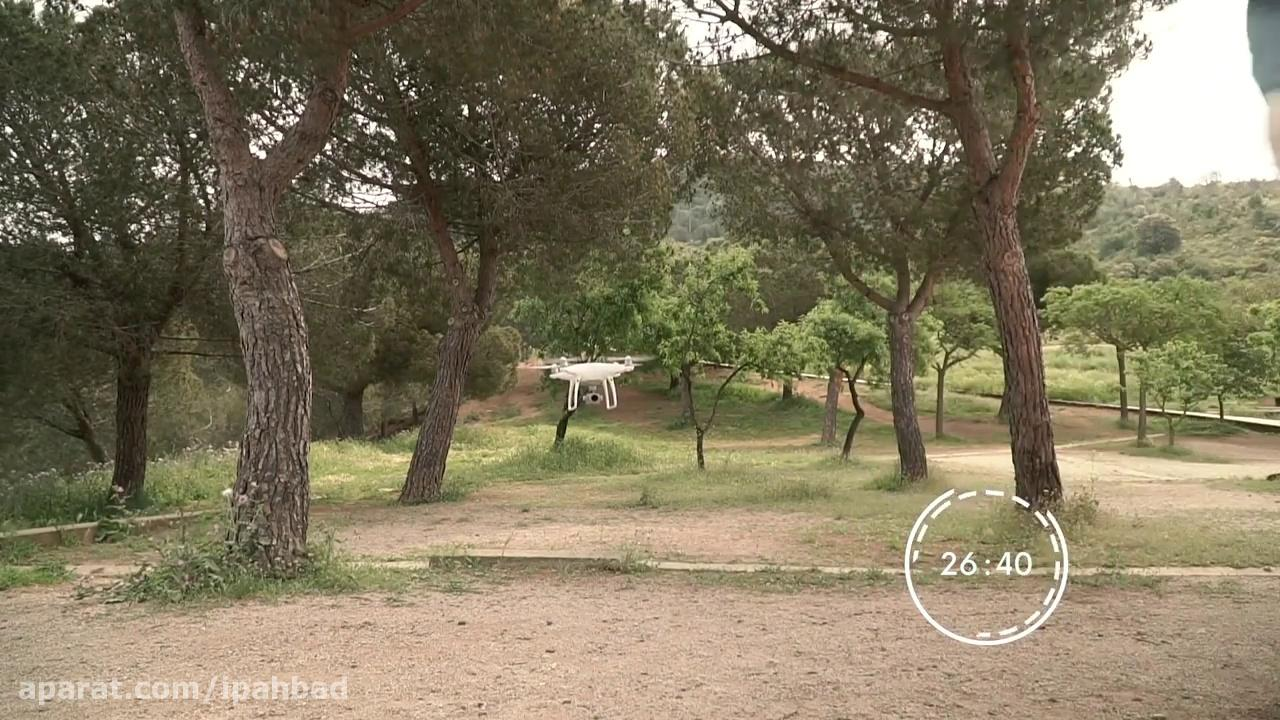drone: (533, 348, 659, 412)
